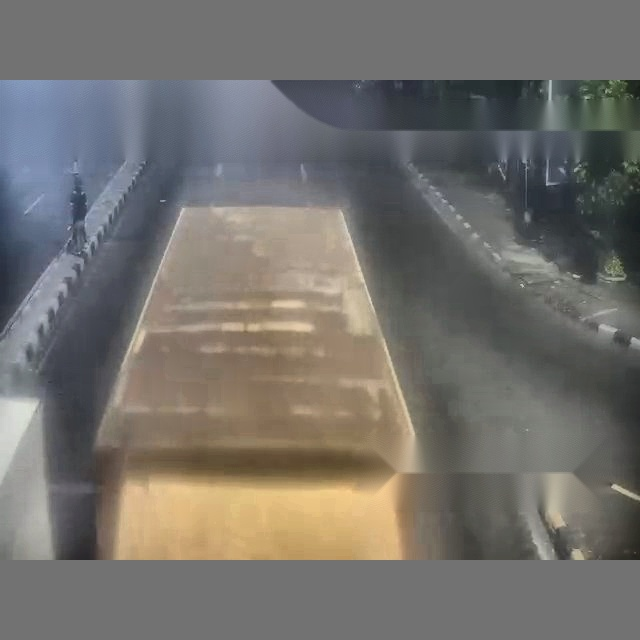Truk: (94, 206, 417, 558), (0, 394, 52, 558)
